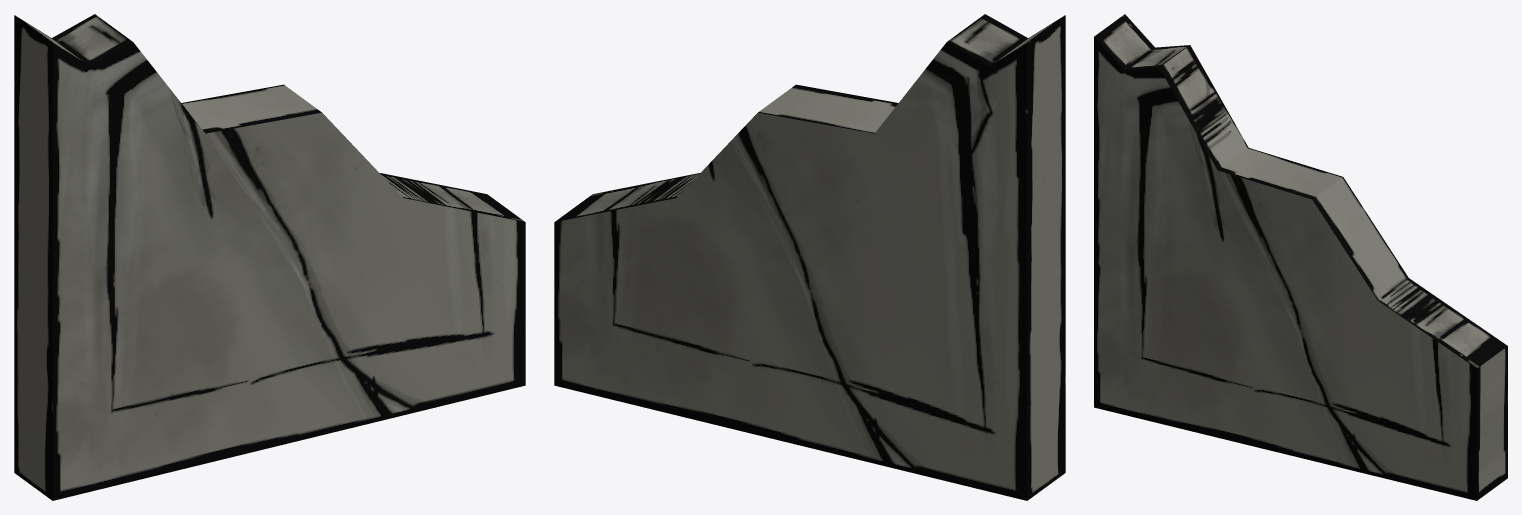
Rendered from tombstone3_gib1.fbx.
The picture shows the model from 3 angles, left to right: view 1: azimuth 30°, elevation 25°; view 2: azimuth 150°, elevation 25°; view 3: azimuth 330°, elevation 25°; orthographic projection. The views are drawn at different scales.
Visible parts, largest first — view 1: tombstone3_gib1; view 2: tombstone3_gib1; view 3: tombstone3_gib1.
Boxes of the visible parts, left/top/right/bottom form: tombstone3_gib1: left=14, top=14, right=525, bottom=500; tombstone3_gib1: left=554, top=14, right=1065, bottom=500; tombstone3_gib1: left=1094, top=14, right=1507, bottom=500.
Bounding box in the file's own units: 272 × 251 × 38.13.
